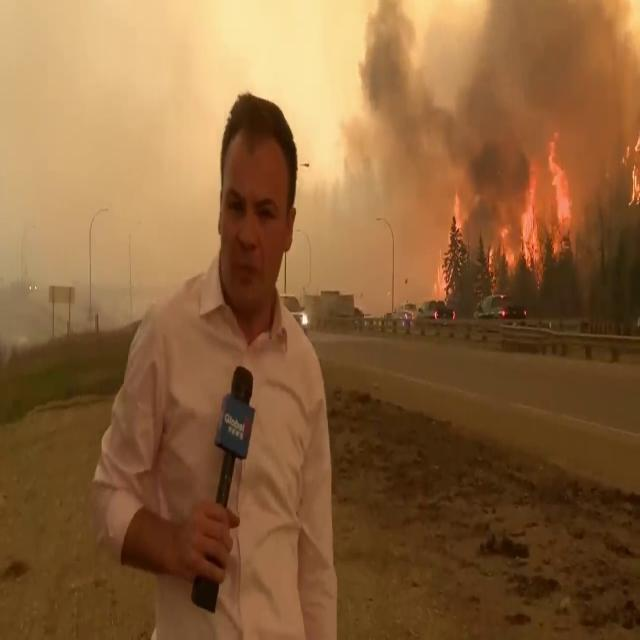Fire: (504, 127, 584, 286)
Smoke: (366, 0, 640, 260)
